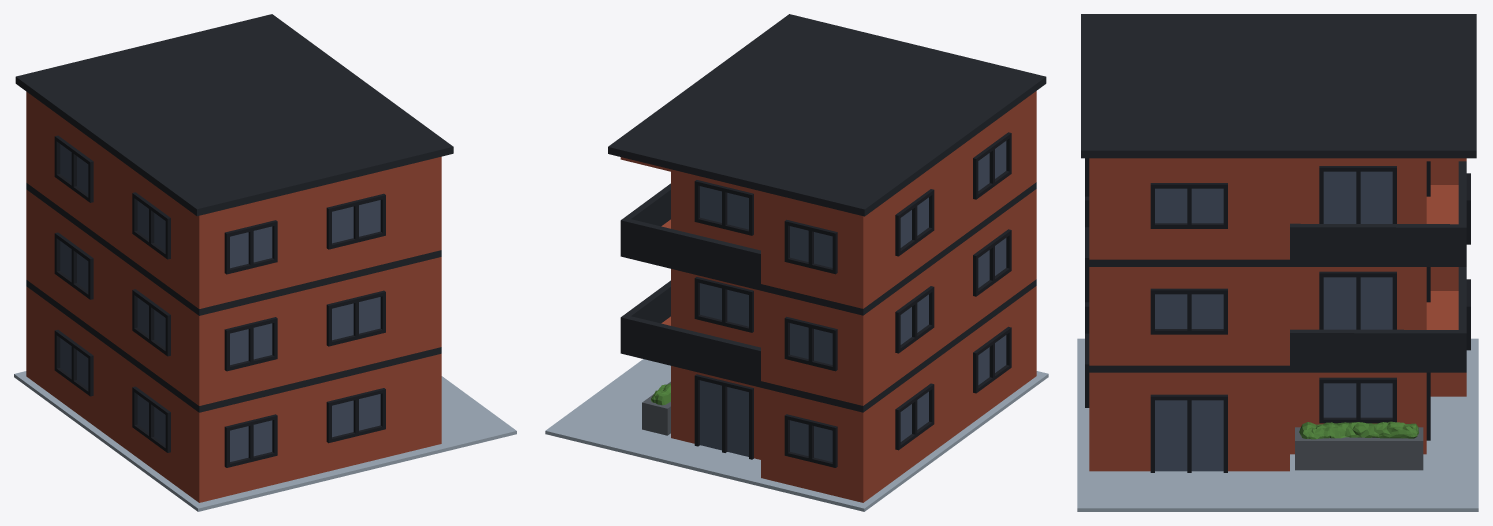
Rendered from apart2.glb.
3 views of the same model, side by side, from view 1: azimuth 30°, elevation 25°; view 2: azimuth 150°, elevation 25°; view 3: azimuth 270°, elevation 25° (orthographic). The views are drawn at different scales.
Parts seen in each view (by area): view 1: apart2; view 2: apart2; view 3: apart2.
Boxes of the visible parts, x1=… form: apart2: x1=14, y1=14, x2=516, y2=511; apart2: x1=545, y1=14, x2=1048, y2=511; apart2: x1=1077, y1=14, x2=1478, y2=511.
Size of the model in its own units: 10 by 9.03 by 10.
